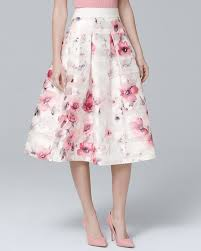C_skirt: (21, 7, 160, 178)
